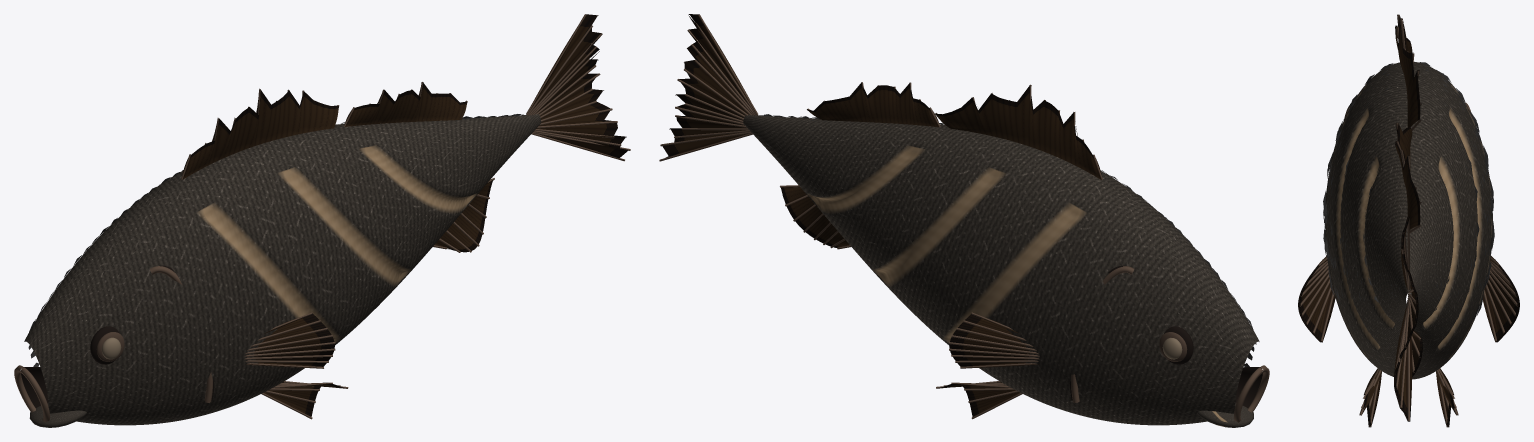
The model's file is burnt_ashfin.glb.
3 renders of one model, left to right at view 1: azimuth 30°, elevation 25°; view 2: azimuth 150°, elevation 25°; view 3: azimuth 270°, elevation 25°, orthographic. The views are drawn at different scales.
Parts seen in each view (by area): view 1: Scaled cracked charcoal skin, Fin web carbonized, Fin rays and lip edges, Deep oral cavity; view 2: Scaled cracked charcoal skin, Fin web carbonized, Fin rays and lip edges, Deep oral cavity; view 3: Scaled cracked charcoal skin, Fin web carbonized, Fin rays and lip edges, Raised charcoal crust flakes.
Part boxes in pixels (x1,y1,x2,y2): Scaled cracked charcoal skin: [24, 114, 541, 427]; Fin web carbonized: [182, 14, 629, 416]; Fin rays and lip edges: [14, 14, 630, 422]; Deep oral cavity: [21, 265, 214, 407]; Scaled cracked charcoal skin: [743, 114, 1259, 427]; Fin web carbonized: [662, 14, 1101, 416]; Fin rays and lip edges: [659, 14, 1269, 422]; Deep oral cavity: [1069, 265, 1262, 408]; Scaled cracked charcoal skin: [1325, 61, 1492, 379]; Fin web carbonized: [1298, 14, 1519, 427]; Fin rays and lip edges: [1300, 15, 1517, 426]; Raised charcoal crust flakes: [1323, 62, 1494, 320].
Bounding box in the file's own units: 0.7807 × 0.4057 × 0.2103.
Materials: 7 (2 with a texture image).
